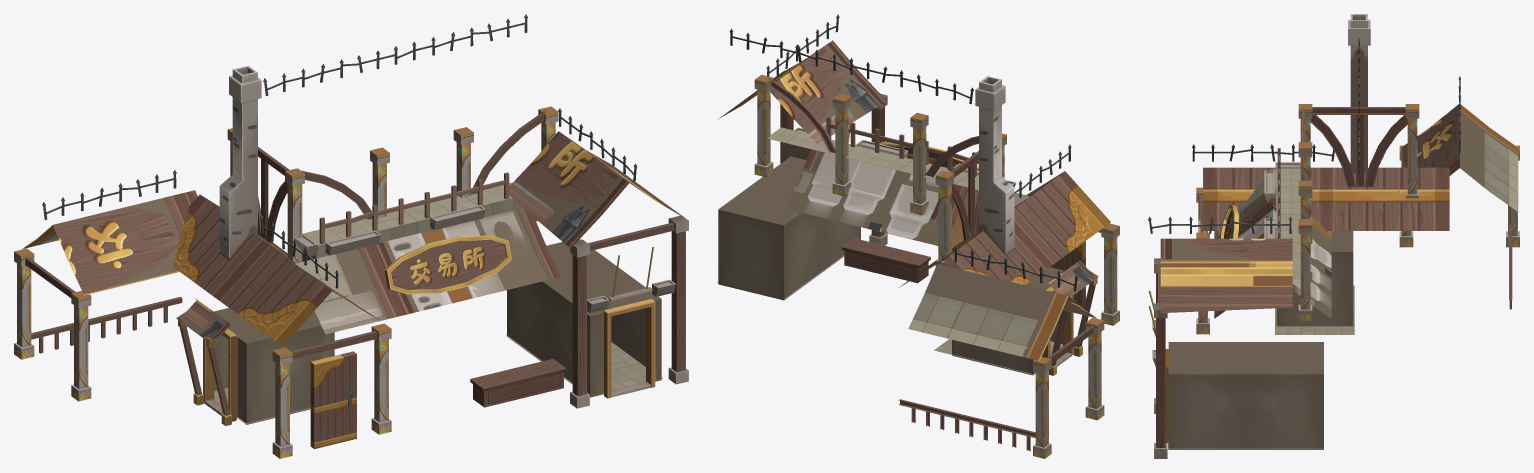
Rendered from zhucheng_jiaoyisuo02.FBX.
3 views of the same model, side by side, from view 1: azimuth 30°, elevation 25°; view 2: azimuth 150°, elevation 25°; view 3: azimuth 270°, elevation 25° (orthographic). The views are drawn at different scales.
Parts seen in each view (by area): view 1: zhucheng_jiaoyisuo02; view 2: zhucheng_jiaoyisuo02; view 3: zhucheng_jiaoyisuo02.
Boxes of the visible parts, x1,y1,x2,y2 form: zhucheng_jiaoyisuo02: (14,14,688,458); zhucheng_jiaoyisuo02: (717,14,1119,458); zhucheng_jiaoyisuo02: (1148,14,1519,458).
Bounding box in the file's own units: 1434 × 880 × 1022.
